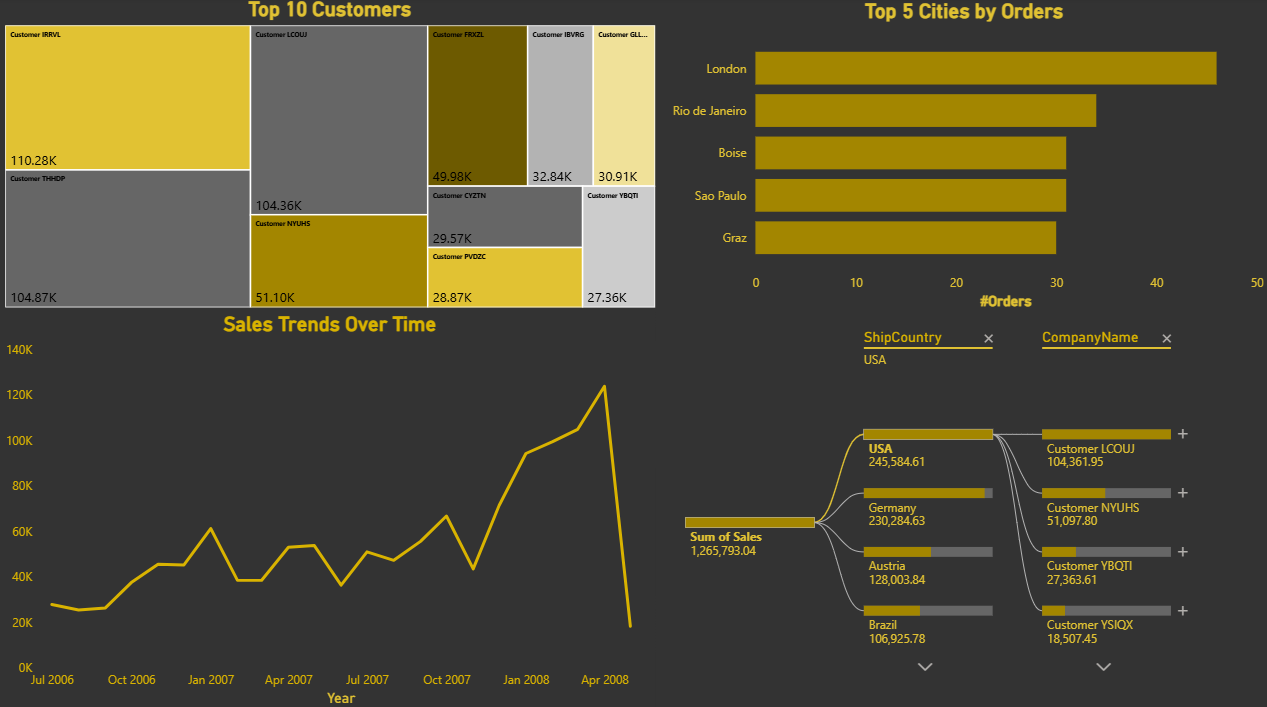

This screenshot's page, from the dashboard's own definition file:
{"tool":"powerbi","page":{"name":"Page 2","canvas":[1280,720],"ordinal":1},"visuals":[{"type":"shape","box":[0,0,1279.4,720.5],"z":0},{"type":"treemap","title":"Top 10 Customers","fields":{"Group":["new_CustomerDetails.CompanyName"],"Values":["Sum(new_OrderDetails.Sales)"]},"box":[0,0,666,318],"z":1000},{"type":"lineChart","title":"Sales Trends Over Time","fields":{"Y":["Sum(new_OrderDetails.Sales)"],"Category":["new_SalesOrder.OrderDate.Variation.Date Hierarchy.Year","new_SalesOrder.OrderDate.Variation.Date Hierarchy.Quarter","new_SalesOrder.OrderDate.Variation.Date Hierarchy.Month"]},"box":[0,318,666,402],"z":2000},{"type":"barChart","title":"Top 5 Cities by Orders","fields":{"Category":["new_CustomerDetails.City"],"Y":["Count(new_OrderDetails.OrderID)"]},"box":[666,2,614,318],"z":3000},{"type":"decompositionTreeVisual","fields":{"Analyze":["Sum(new_OrderDetails.Sales)"],"ExplainBy":["new_SalesOrder.ShipCountry","new_CustomerDetails.CompanyName","new_CategoryDetails.CategoryName"]},"box":[662,318,618,402],"z":4000}]}

Visuals, with their boxes in screenshot pixels (x1, y1, x2, y2), scaled from the page's 1280x720 canvas onto the 1267x707 screenshot:
shape: 0/0/1266/706
"Top 10 Customers" treemap: 0/0/659/312
"Sales Trends Over Time" lineChart: 0/312/659/706
"Top 5 Cities by Orders" barChart: 659/2/1266/314
decompositionTreeVisual - Sum(new_OrderDetails.Sales) x new_SalesOrder.ShipCountry: 655/312/1266/706
